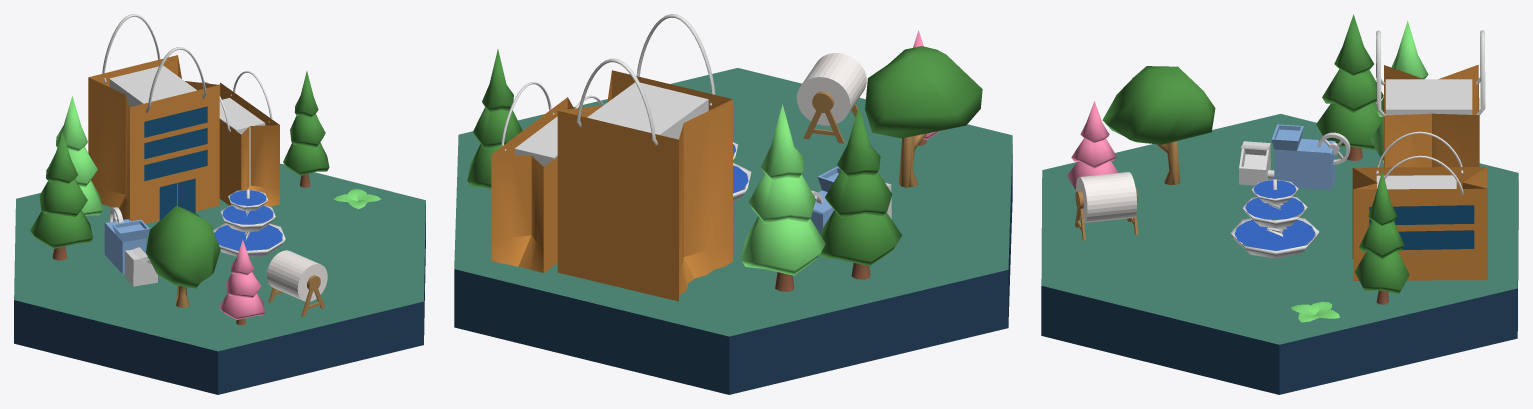
File: Macro - Shop lvl 1 WM3.fbx
The picture shows the model from 3 angles, left to right: view 1: azimuth 30°, elevation 25°; view 2: azimuth 150°, elevation 25°; view 3: azimuth 270°, elevation 25°; orthographic projection. The views are drawn at different scales.
Parts seen in each view (by area): view 1: Cylinder.179, Circle.006, Circle.005, tree1 v:88 f:56, Tree_Spruce_tiny_01.002, Cube.018, Tree_Spruce_tiny_01.007, Tree_Spruce_tiny_01.001, Tree_Spruce_tiny_01.005, Cylinder.011, Cube.138, Cube.002 (+8 smaller); view 2: Cylinder.179, Circle.006, tree1 v:88 f:56, Circle.005, Tree_Spruce_tiny_01.005, Tree_Spruce_tiny_01.002, Cube.138, Tree_Spruce_tiny_01.007, Cylinder.011, Cube.139, Cube.002, Cube.018; view 3: Cylinder.179, Circle.005, tree1 v:88 f:56, Circle.006, Tree_Spruce_tiny_01.002, Cube.018, Tree_Spruce_tiny_01.007, Cube.002, Cube.138, Cylinder.011, Tree_Spruce_tiny_01.001, Plane.004 (+5 smaller).
Boxes of the visible parts, x1,y1,x2,y2 form: Cylinder.179: (14,163,425,394); Circle.006: (88,14,219,223); Circle.005: (201,71,279,206); tree1 v:88 f:56: (146,205,220,307); Tree_Spruce_tiny_01.002: (30,132,92,260); Cube.018: (213,189,285,257); Tree_Spruce_tiny_01.007: (283,71,329,187); Tree_Spruce_tiny_01.001: (219,240,265,325); Tree_Spruce_tiny_01.005: (40,96,102,215); Cylinder.011: (267,250,327,301); Cube.138: (109,65,196,106); Cube.002: (104,219,149,274); Cylinder.179: (454,68,1012,394); Circle.006: (557,14,732,301); tree1 v:88 f:56: (865,46,982,187); Circle.005: (491,82,603,272); Tree_Spruce_tiny_01.005: (741,104,825,291); Tree_Spruce_tiny_01.002: (820,106,901,279); Cube.138: (587,82,708,139); Tree_Spruce_tiny_01.007: (467,49,522,188); Cylinder.011: (796,53,866,125); Cube.139: (514,116,557,166); Cube.002: (810,166,840,234); Cube.018: (733,142,751,201); Cylinder.179: (1041,114,1518,394); Circle.005: (1352,131,1487,280); tree1 v:88 f:56: (1102,66,1215,185); Circle.006: (1376,30,1485,167); Tree_Spruce_tiny_01.002: (1316,14,1383,160); Cube.018: (1230,179,1319,258); Tree_Spruce_tiny_01.007: (1355,171,1409,304); Cube.002: (1271,124,1335,190); Cube.138: (1385,79,1472,115); Cylinder.011: (1076,172,1137,222); Tree_Spruce_tiny_01.001: (1067,101,1118,189); Plane.004: (1369,205,1474,225).
Size of the model in its own units: 197 by 98.68 by 172.
